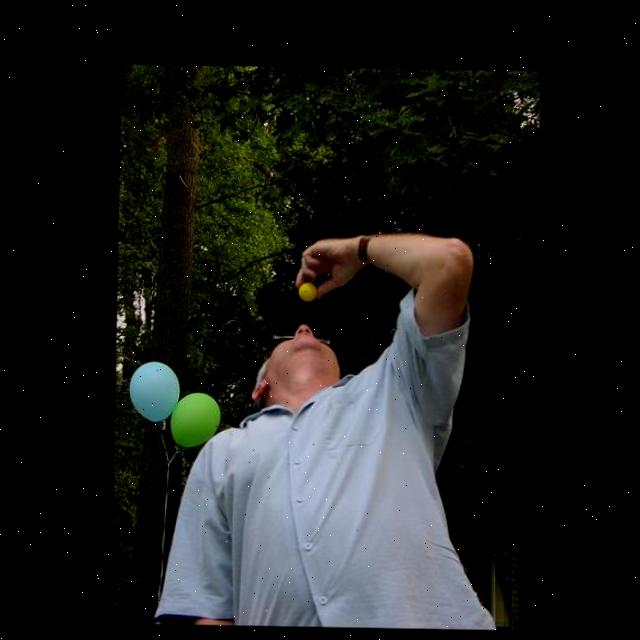ping-pong-ball: (298, 282, 318, 302)
